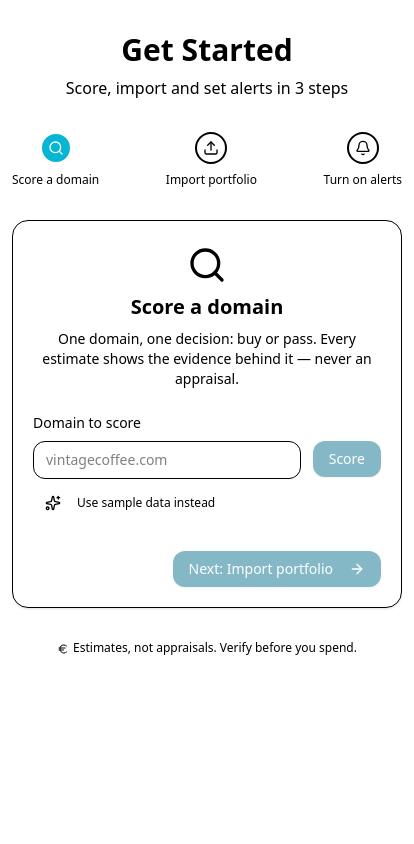
OnboardingPage › accepts sample data as a first score fallback
Click the button "Use sample data instead": coordinates (130, 503) [33,487,227,519]
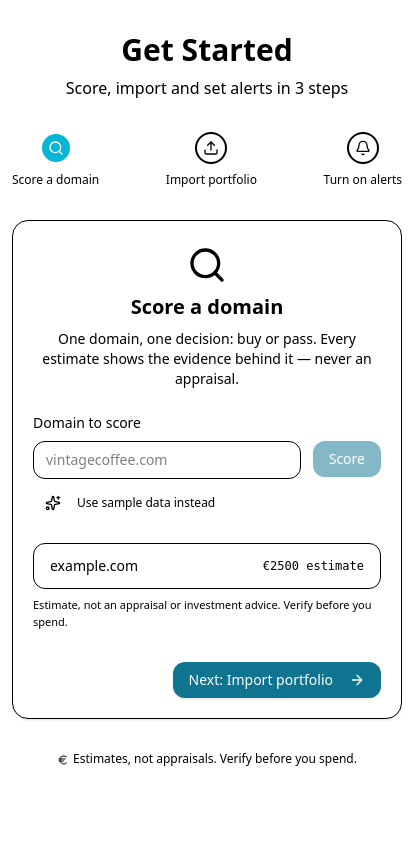
Now the text "example.com" is shown, box [50,556,138,576]
Click the button "Next: Import portfolio": coordinates (277, 680) [173,662,381,698]
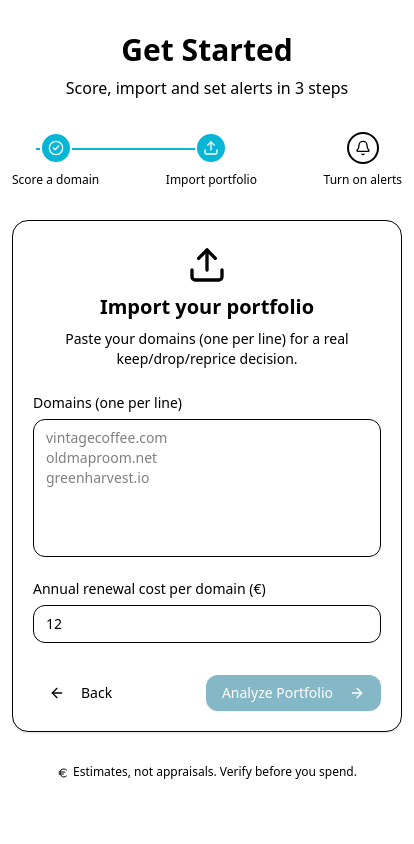
Now the heading "Import your portfolio" is shown, box [100,293,314,320]
